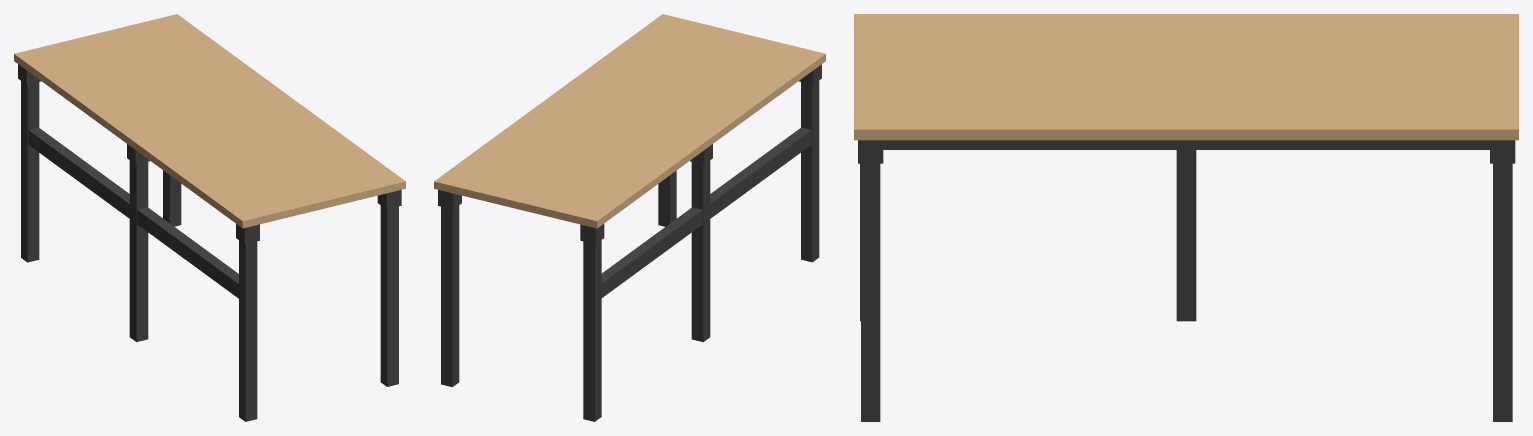
Rendered from desktop.glb.
3 renders of one model, left to right at view 1: azimuth 30°, elevation 25°; view 2: azimuth 150°, elevation 25°; view 3: azimuth 270°, elevation 25°, orthographic. The views are drawn at different scales.
Visible parts, largest first — view 1: Planche_Bureau, Pied_Bureau.005, Pied_Bureau.008, Pied_Bureau.007, Pied_Bureau.009, Pied_Bureau.011, Pied_Bureau.006, Pied_Bureau.002, Pied_Bureau.003, Pied_Bureau.001, Pied_Bureau.010; view 2: Planche_Bureau, Pied_Bureau.005, Pied_Bureau.001, Pied_Bureau.004, Pied_Bureau.002, Pied_Bureau.003, Pied_Bureau.006; view 3: Planche_Bureau, Pied_Bureau.005, Pied_Bureau.010, Pied_Bureau.011, Pied_Bureau.009, Pied_Bureau.006.
Boxes of the visible parts, x1=… form: Planche_Bureau: x1=14, y1=14, x2=405, y2=228; Pied_Bureau.005: x1=28, y1=127, x2=238, y2=298; Pied_Bureau.008: x1=244, y1=224, x2=259, y2=421; Pied_Bureau.007: x1=26, y1=70, x2=41, y2=262; Pied_Bureau.009: x1=135, y1=150, x2=149, y2=341; Pied_Bureau.011: x1=387, y1=206, x2=398, y2=386; Pied_Bureau.006: x1=377, y1=190, x2=401, y2=386; Pied_Bureau.002: x1=127, y1=144, x2=136, y2=341; Pied_Bureau.003: x1=236, y1=224, x2=245, y2=421; Pied_Bureau.001: x1=18, y1=64, x2=27, y2=262; Pied_Bureau.010: x1=169, y1=175, x2=181, y2=226; Planche_Bureau: x1=434, y1=14, x2=825, y2=228; Pied_Bureau.005: x1=601, y1=127, x2=811, y2=297; Pied_Bureau.001: x1=580, y1=224, x2=604, y2=421; Pied_Bureau.004: x1=438, y1=190, x2=461, y2=387; Pied_Bureau.002: x1=690, y1=144, x2=712, y2=342; Pied_Bureau.003: x1=799, y1=64, x2=821, y2=262; Pied_Bureau.006: x1=658, y1=170, x2=676, y2=226; Planche_Bureau: x1=854, y1=14, x2=1518, y2=140; Pied_Bureau.005: x1=883, y1=140, x2=1489, y2=149; Pied_Bureau.010: x1=1490, y1=140, x2=1515, y2=421; Pied_Bureau.011: x1=861, y1=163, x2=880, y2=421; Pied_Bureau.009: x1=1176, y1=140, x2=1196, y2=321; Pied_Bureau.006: x1=858, y1=140, x2=883, y2=163.
Bounding box in the file's own units: 1.4 × 1.67 × 3.4.
